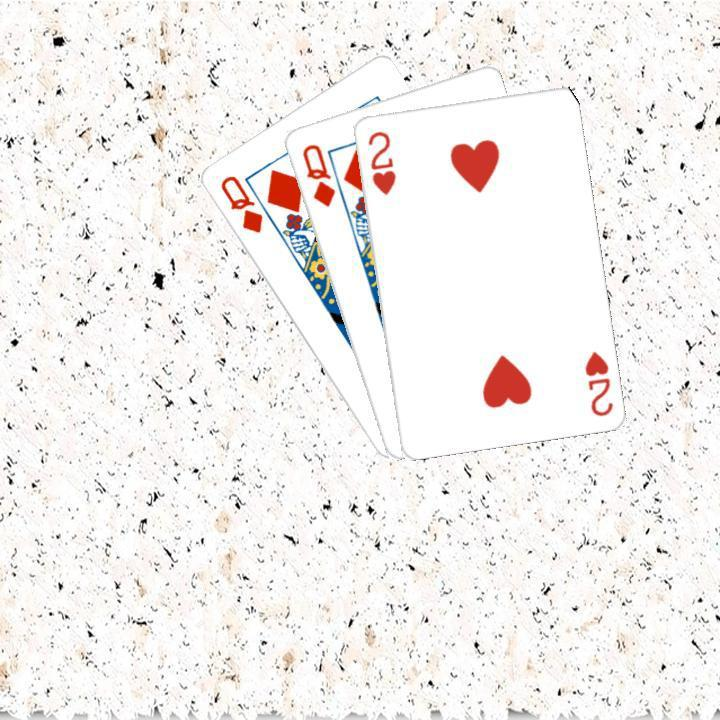2: (579, 346, 614, 418), (362, 126, 397, 197)
Q: (215, 171, 265, 236), (297, 139, 337, 209)
